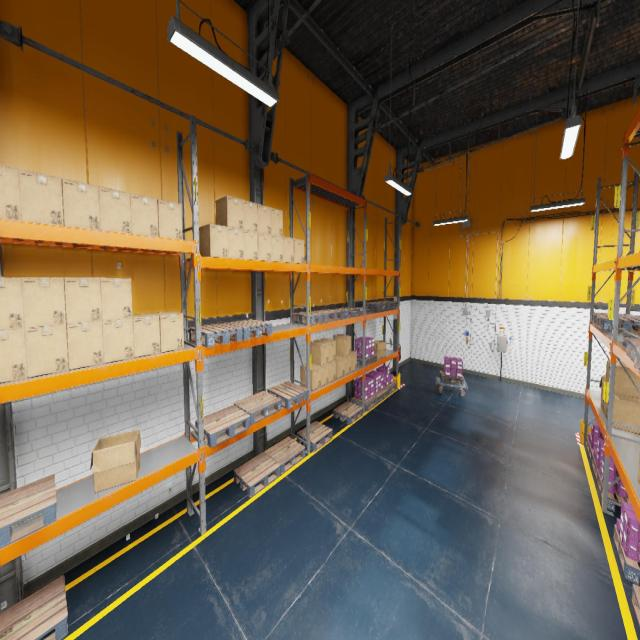box: (90, 429, 141, 492), (18, 169, 64, 226), (21, 276, 66, 328), (25, 324, 68, 378), (62, 178, 100, 230), (66, 321, 104, 370), (64, 278, 102, 324), (99, 186, 131, 234), (0, 328, 27, 382), (102, 318, 134, 363), (100, 278, 132, 321), (152, 311, 184, 353), (0, 276, 24, 330), (606, 361, 640, 398), (130, 193, 158, 237), (133, 313, 160, 357), (0, 165, 21, 221), (612, 393, 640, 434), (199, 223, 228, 258), (158, 199, 182, 240), (216, 195, 243, 229), (604, 394, 637, 418), (300, 363, 320, 391), (228, 227, 244, 259), (243, 200, 258, 232), (310, 340, 328, 366), (317, 338, 335, 363), (244, 230, 258, 260), (333, 334, 351, 356), (258, 232, 271, 261), (258, 204, 270, 234), (271, 207, 283, 236), (271, 235, 283, 262), (336, 354, 351, 375), (283, 236, 294, 262), (294, 238, 304, 264), (374, 340, 386, 358), (336, 354, 344, 378), (328, 360, 336, 383), (599, 374, 606, 399), (321, 364, 328, 386), (351, 351, 357, 372), (601, 382, 604, 412), (638, 448, 640, 486)
pallets: (0, 575, 68, 639), (0, 474, 57, 549), (195, 405, 250, 447), (234, 452, 280, 498), (613, 524, 640, 585), (234, 391, 281, 425), (264, 437, 306, 474), (189, 323, 242, 347), (598, 473, 631, 511), (268, 381, 308, 409), (297, 421, 333, 452), (224, 320, 272, 340), (596, 315, 640, 332), (334, 401, 364, 424), (591, 312, 634, 325), (294, 311, 328, 325), (351, 396, 378, 412), (312, 310, 344, 322), (632, 584, 640, 628), (626, 338, 640, 363), (440, 371, 464, 385), (334, 307, 360, 318), (622, 331, 640, 346), (357, 354, 377, 366), (592, 453, 599, 482), (374, 388, 388, 402), (366, 302, 389, 310), (383, 382, 398, 394), (634, 348, 640, 373), (377, 301, 398, 308), (587, 438, 593, 462)
